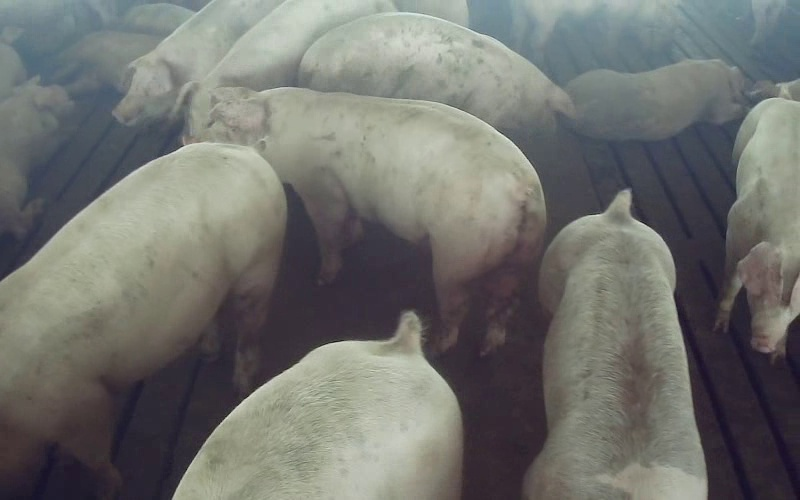pig: (0, 143, 285, 495), (207, 88, 545, 351), (523, 190, 705, 499), (173, 311, 462, 499), (299, 13, 573, 133), (715, 98, 799, 357), (566, 60, 743, 140), (0, 85, 72, 237), (52, 30, 161, 94)
